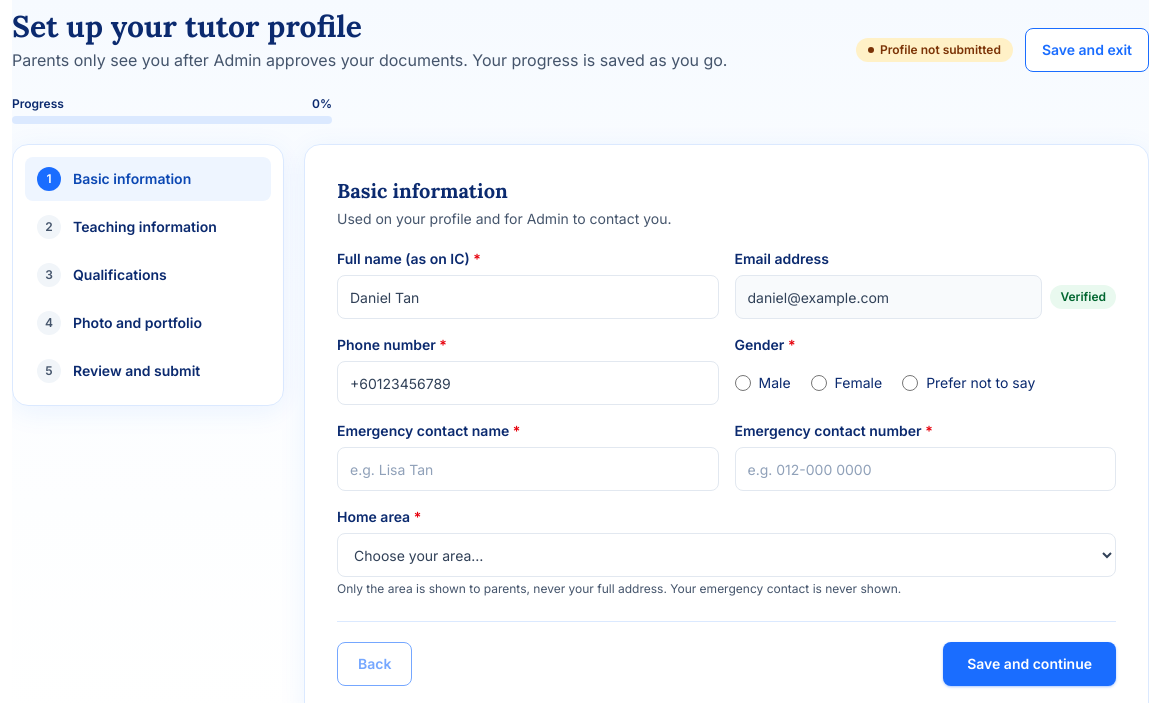
tutor profile setup › Save and continue is blocked while a required field is missing, and nothing is saved
The image size is (1164, 703).
Click the button "Save and continue" at (1030, 664), box [943,642,1116,686]
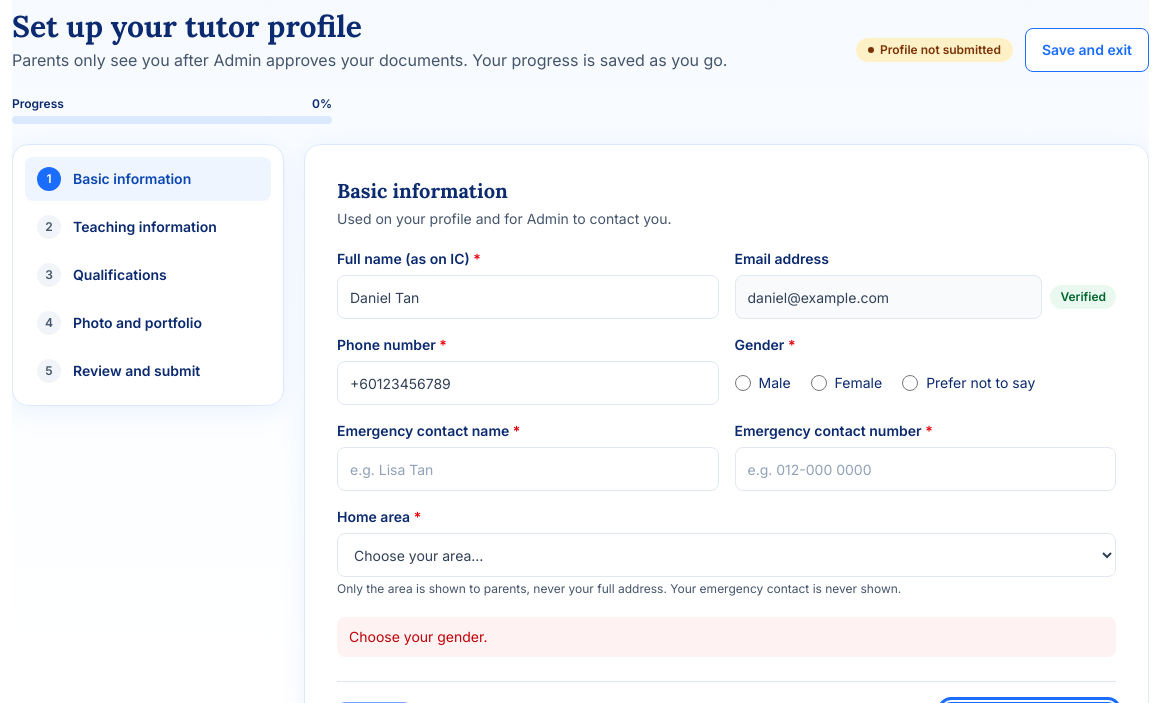
Expected: the heading "Basic information" is shown, [337,178,508,203]
Result: the message reads "Choose your gender." at [349,628,488,645]
